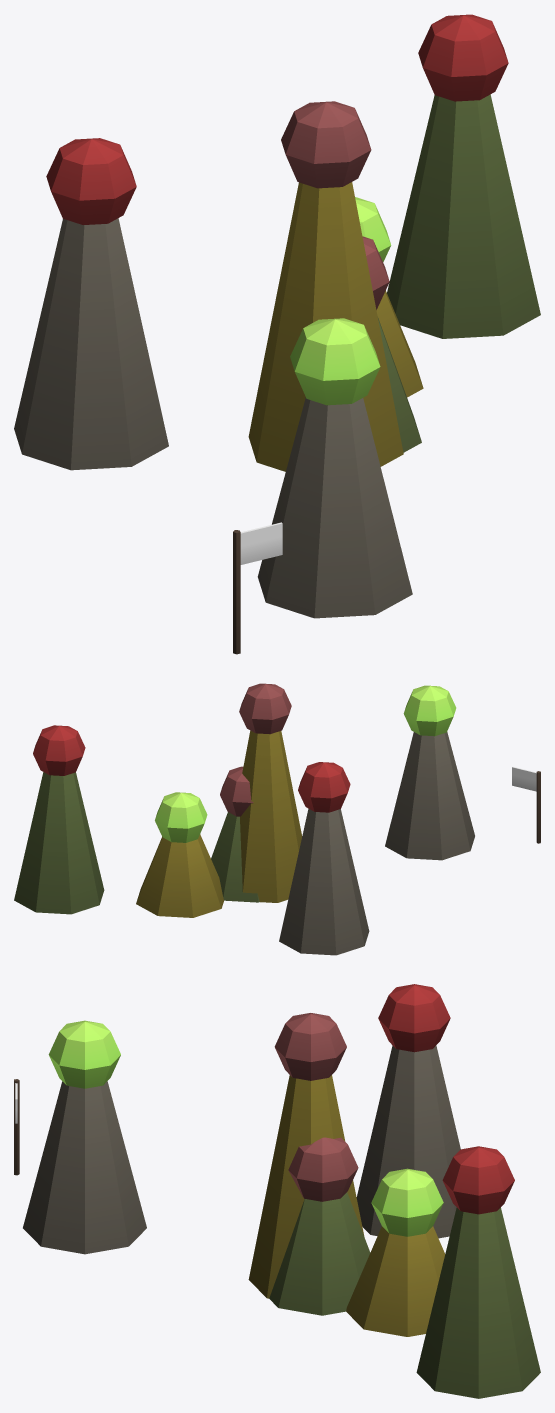
Rendered from OFF_BLD2.glb.
3 renders of one model, top to bottom at view 1: azimuth 30°, elevation 25°; view 2: azimuth 150°, elevation 25°; view 3: azimuth 270°, elevation 25°, orthographic. The views are drawn at different scales.
Parts seen in each view (by area): view 1: Body, Flag; view 2: Body, Flag; view 3: Body.
Part boxes in pixels (left/top/right/bottom): Body: left=14, top=14, right=540, bottom=654; Flag: left=240, top=522, right=282, bottom=564; Body: left=14, top=683, right=540, bottom=955; Flag: left=512, top=767, right=536, bottom=791; Body: left=14, top=984, right=540, bottom=1398.
Size of the model in its own units: 5.16 by 2.83 by 5.08.
1 material, 1 textured.
